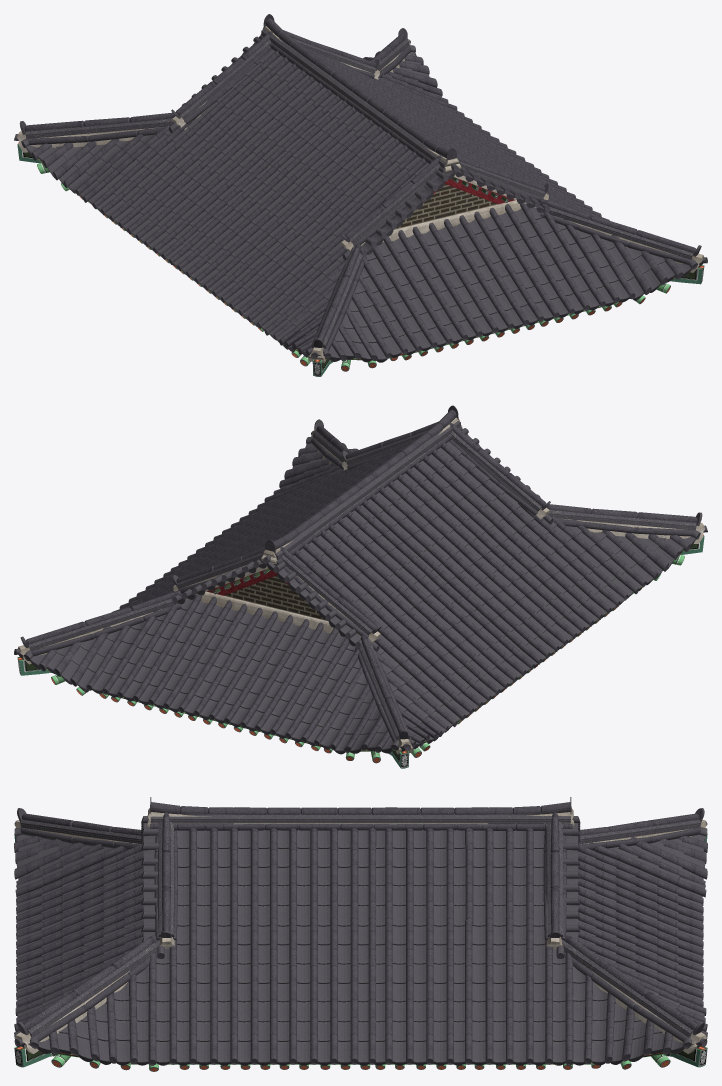
File: SM_R_Oijeongriso.fbx
3 views of the same model, one above another, from view 1: azimuth 30°, elevation 25°; view 2: azimuth 150°, elevation 25°; view 3: azimuth 270°, elevation 25° (orthographic). The views are drawn at different scales.
Visible parts, largest first — view 1: SM_R_Oijeongriso; view 2: SM_R_Oijeongriso; view 3: SM_R_Oijeongriso.
Part boxes in pixels (x1=…): SM_R_Oijeongriso: x1=14, y1=14, x2=707, y2=376; SM_R_Oijeongriso: x1=14, y1=405, x2=707, y2=768; SM_R_Oijeongriso: x1=14, y1=797, x2=707, y2=1071.
Size of the model in its own units: 1061 by 1399 by 414.
7 materials, 7 textured.
